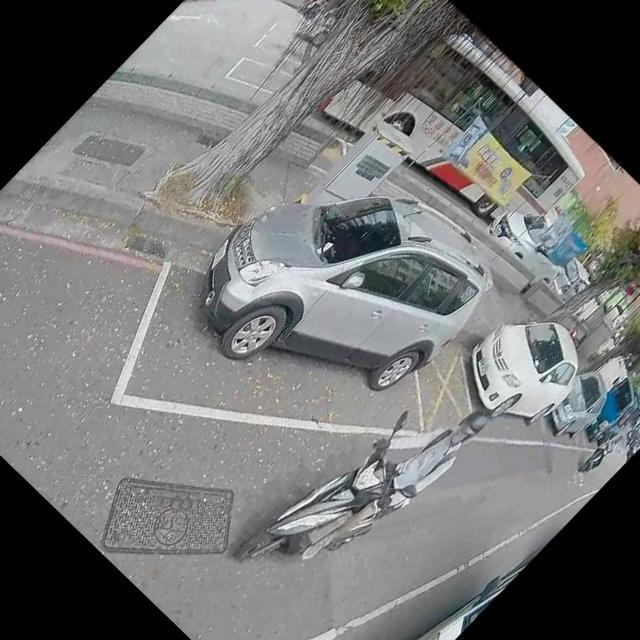person: (275, 364, 498, 592), (584, 428, 626, 471), (299, 0, 339, 20)
